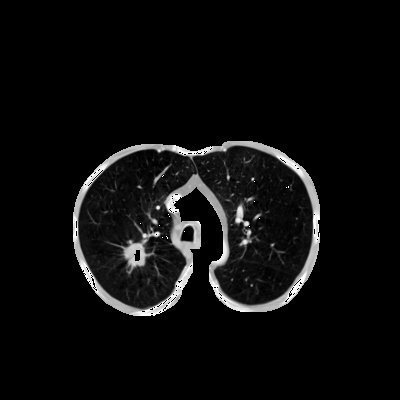PN: (123, 242, 147, 266)
